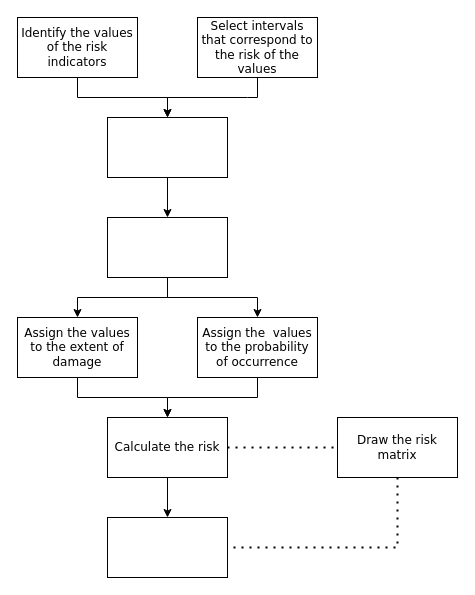
Image size: 475x595. Some labels were removed from this diagram. The centre of each missing label's shape, as x and y in pixels:
"Depict the risk value in the risk matrix" belongs at [167,547].
"Map the values to the intervals" belongs at [167,147].
"Weight the values" belongs at [167,247].
